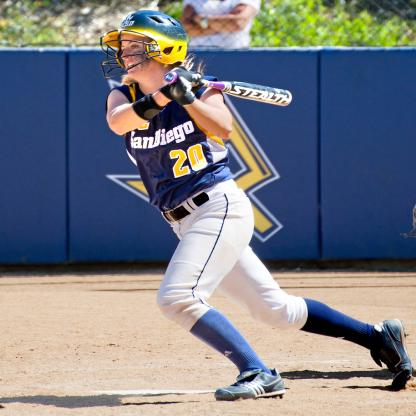Helmet: (101, 9, 193, 83)
